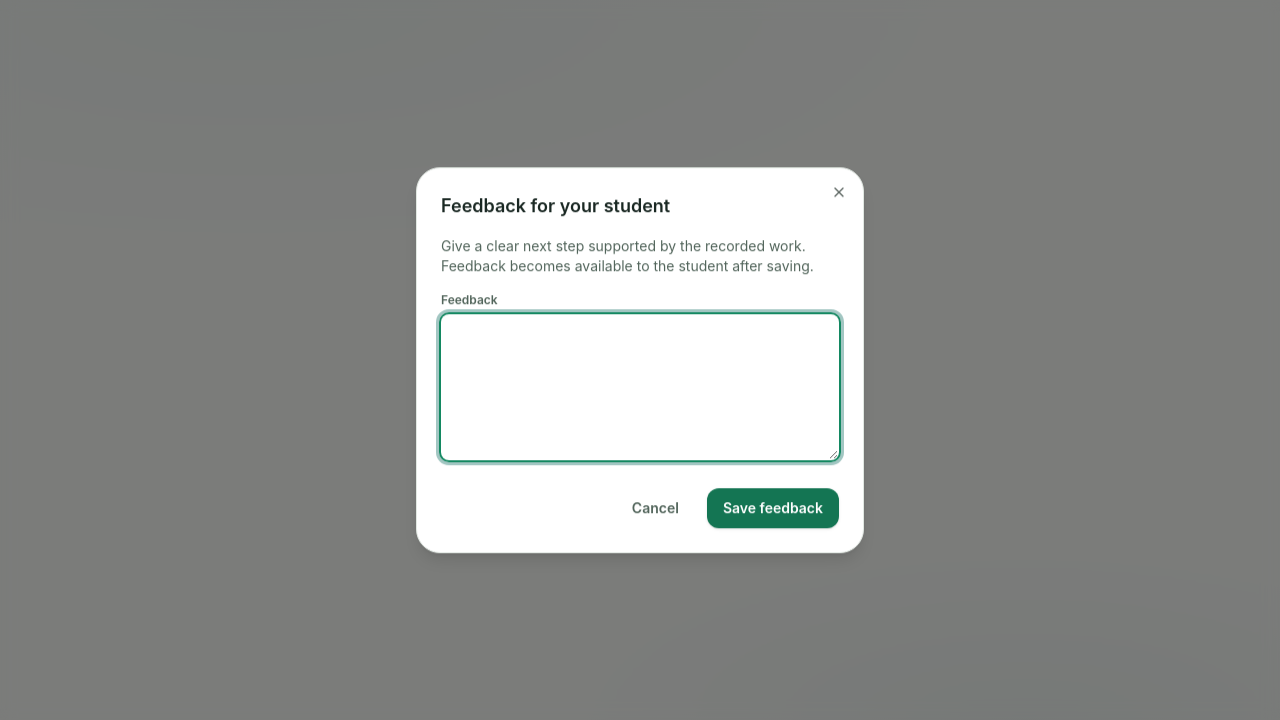
Test: retains feedback and shows an actionable error when saving fails
Type "Explain your second step" into the text box labelled "Feedback" at (640, 387), box [441, 314, 839, 460]
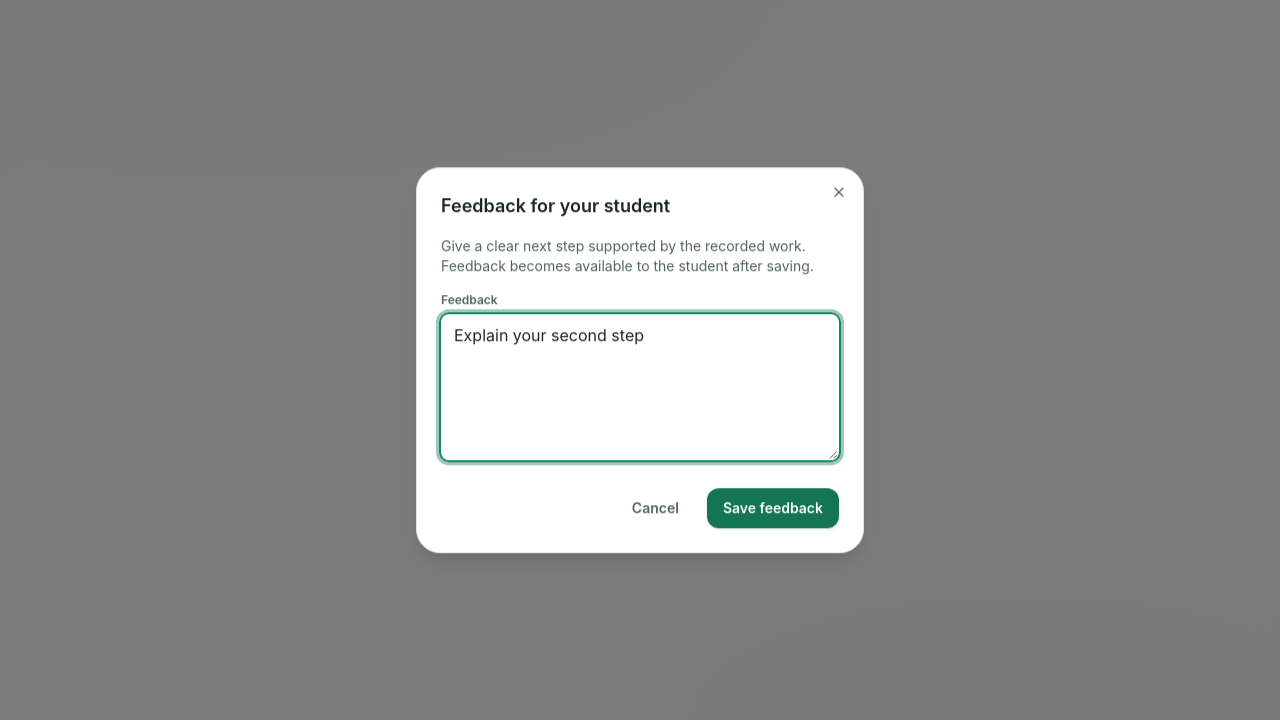
Click the button "Save feedback" at (773, 508), box [707, 488, 839, 528]
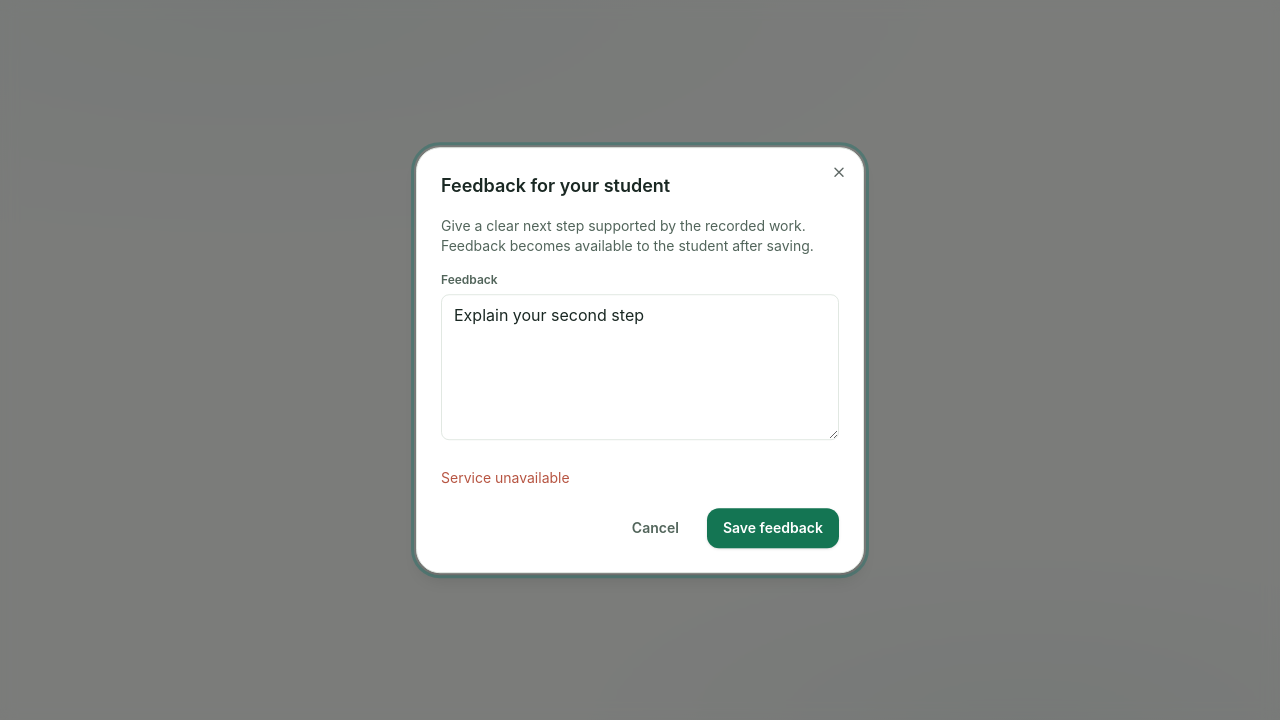
expect the message "Service unavailable" is shown: met, box [441, 469, 570, 486]
